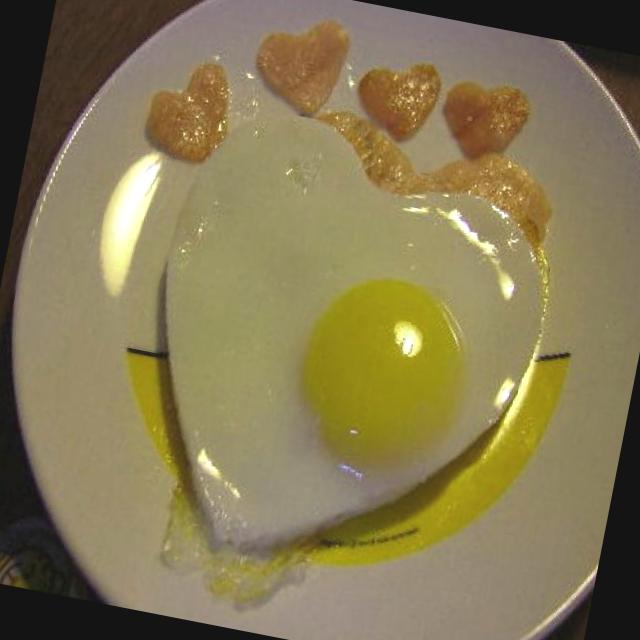Egg: (111, 125, 565, 625)
